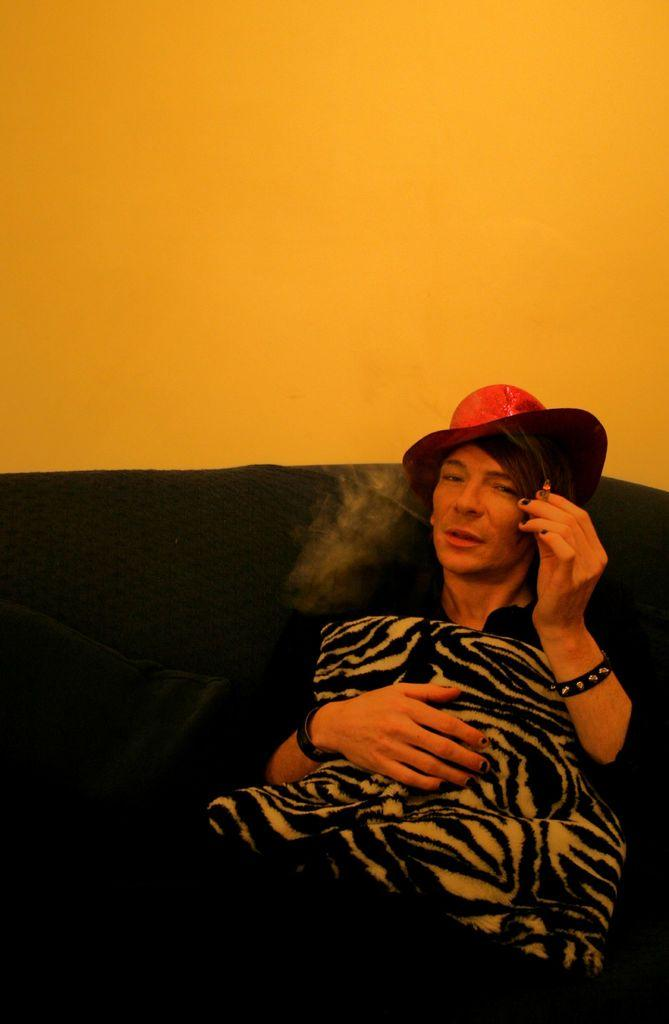Hat: (403, 386, 607, 492)
